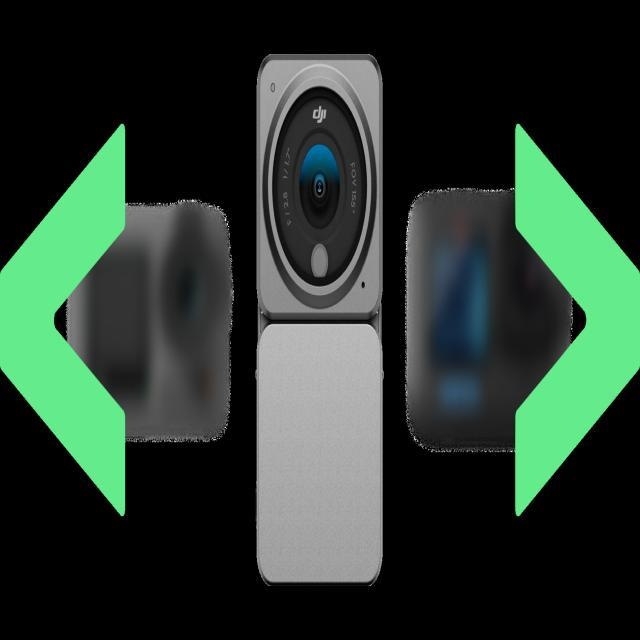hidden camera: (264, 88, 374, 292)
